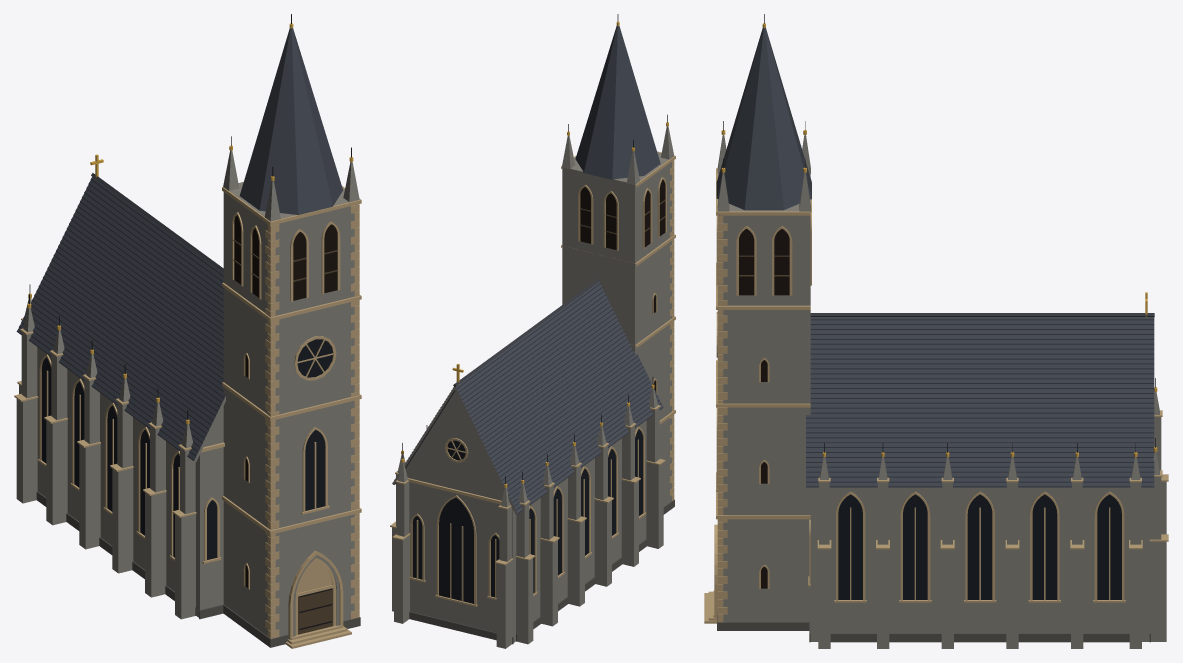
File: dom.glb
3 renders of one model, left to right at view 1: azimuth 30°, elevation 25°; view 2: azimuth 150°, elevation 25°; view 3: azimuth 270°, elevation 25°, orthographic. The views are drawn at different scales.
Parts seen in each view (by area): view 1: Turm, Dach, Wand_links, Wand_vorne; view 2: Dach, Turm, Wand_links, Wand_hinten; view 3: Dach, Wand_rechts, Turm, Wand_hinten, Wand_vorne.
Part boxes in pixels (left/top/right/bottom): Turm: left=222, top=14, right=361, bottom=648; Dach: left=16, top=154, right=225, bottom=461; Wand_links: left=14, top=294, right=196, bottom=619; Wand_vorne: left=196, top=442, right=224, bottom=619; Dach: left=392, top=278, right=663, bottom=514; Turm: left=561, top=14, right=675, bottom=514; Wand_links: left=515, top=377, right=665, bottom=644; Wand_hinten: left=392, top=451, right=515, bottom=648; Dach: left=806, top=292, right=1154, bottom=487; Wand_rechts: left=817, top=443, right=1142, bottom=648; Turm: left=704, top=14, right=811, bottom=630; Wand_hinten: left=1142, top=378, right=1168, bottom=642; Wand_vorne: left=808, top=487, right=818, bottom=642.
Bounding box in the file's own units: 12.48 × 42.6 × 30.14.
